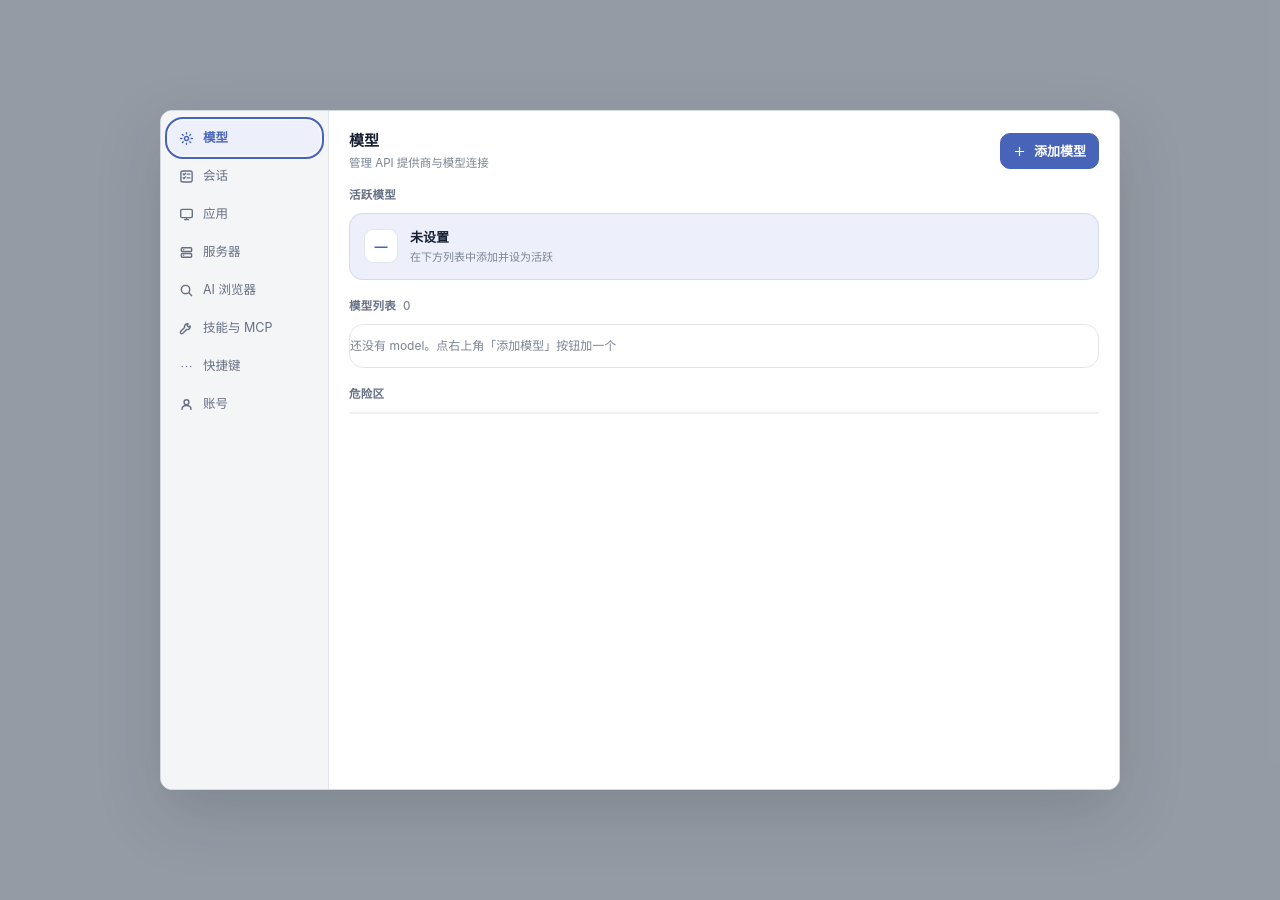
Test case: SettingsPanel › mounts the servers panel when its nav tab is selected
Click the tab with class "settings-nav__item" showing "服务器" at (244, 252), box left=169, top=235, right=320, bottom=269
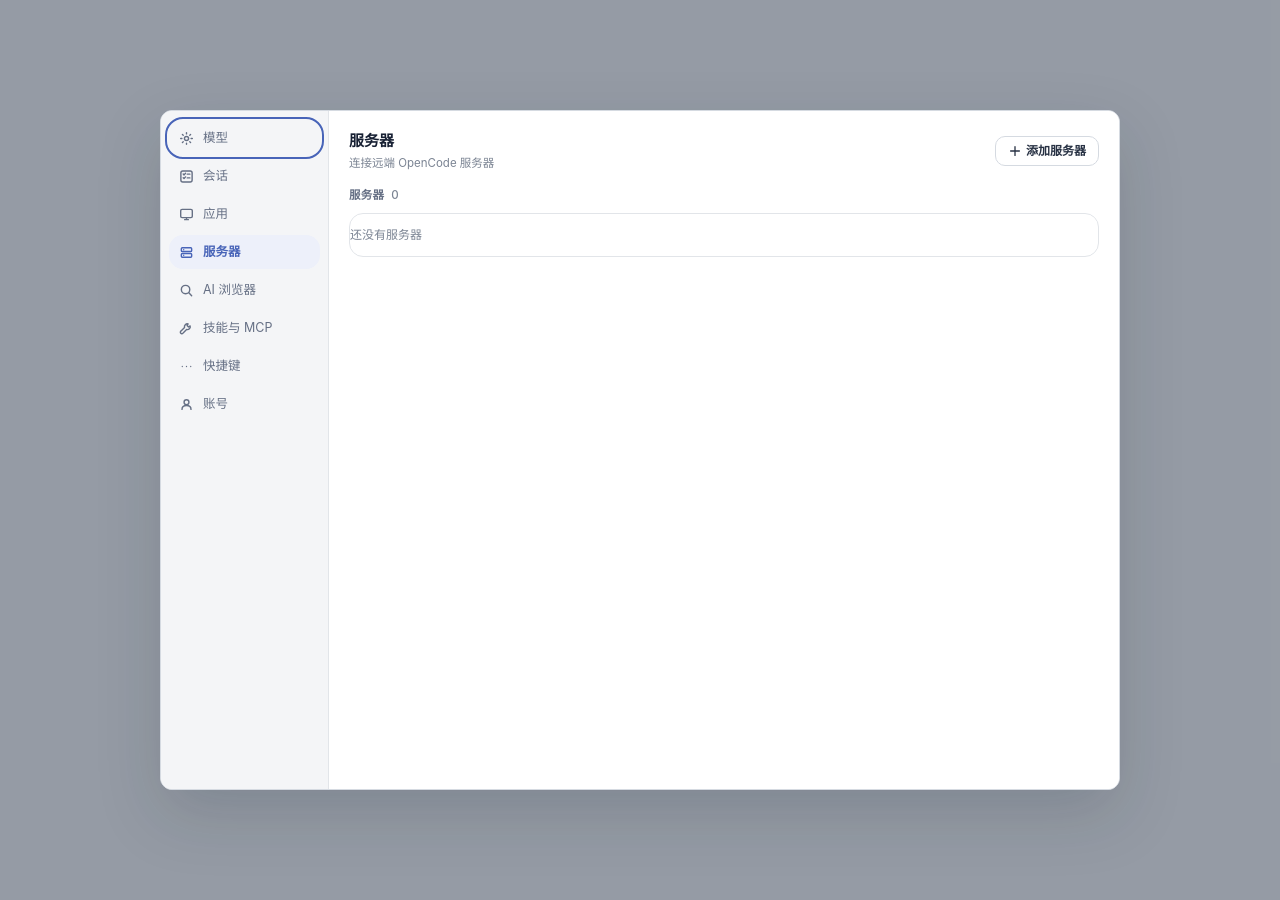
Expected: the heading "服务器" is shown, left=349, top=131, right=394, bottom=150
